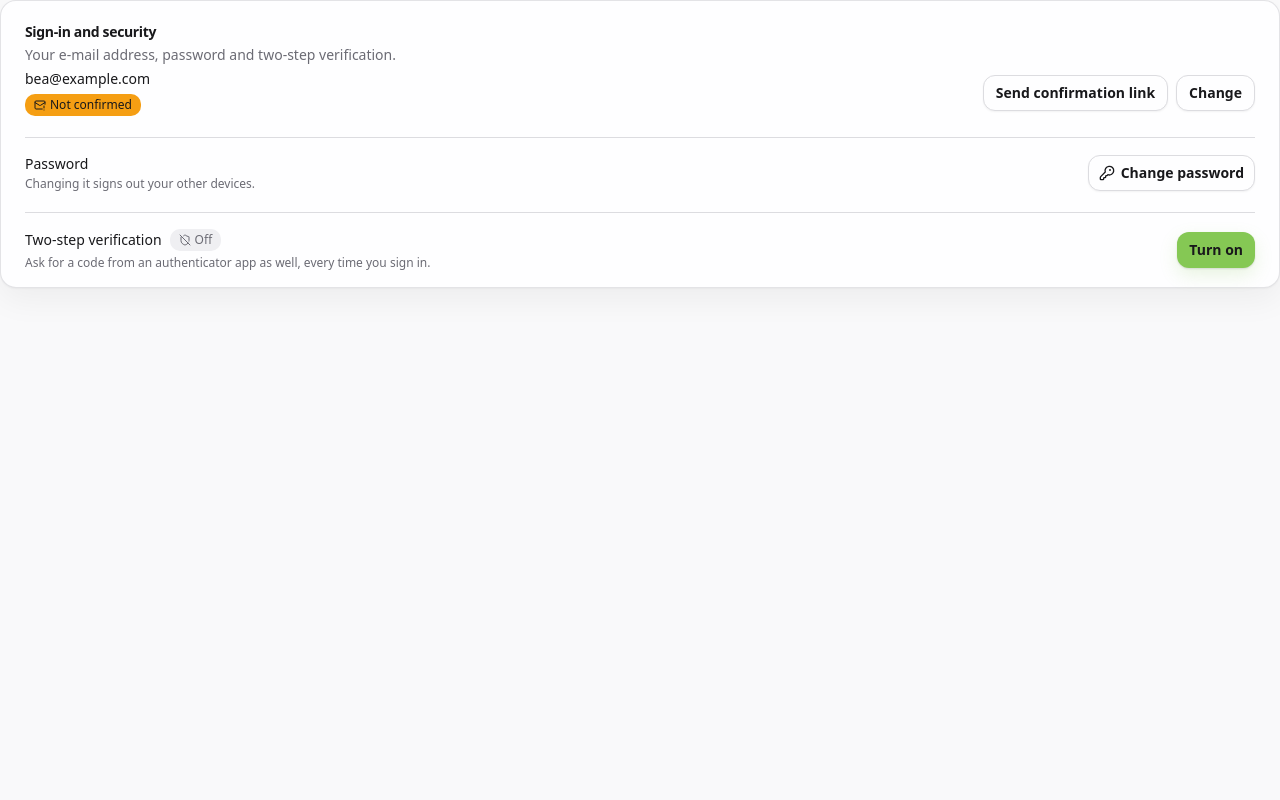
Test: AccountSecurityCard › puts a wrong current password on its own field
Click the button "Change password" at (1171, 173), box [1088,155,1255,191]
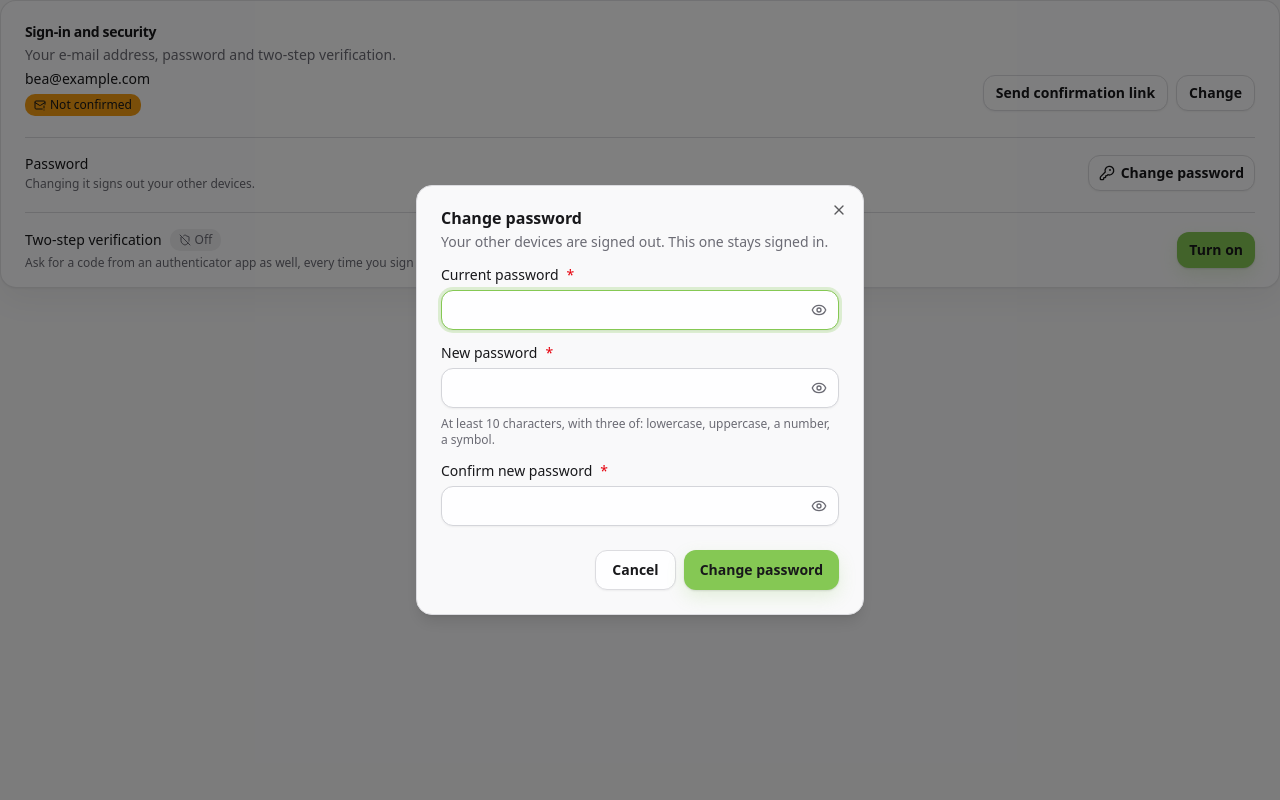
Type "wrong" into the password field labelled "Current password *" at (640, 310), box [441,290,839,330]
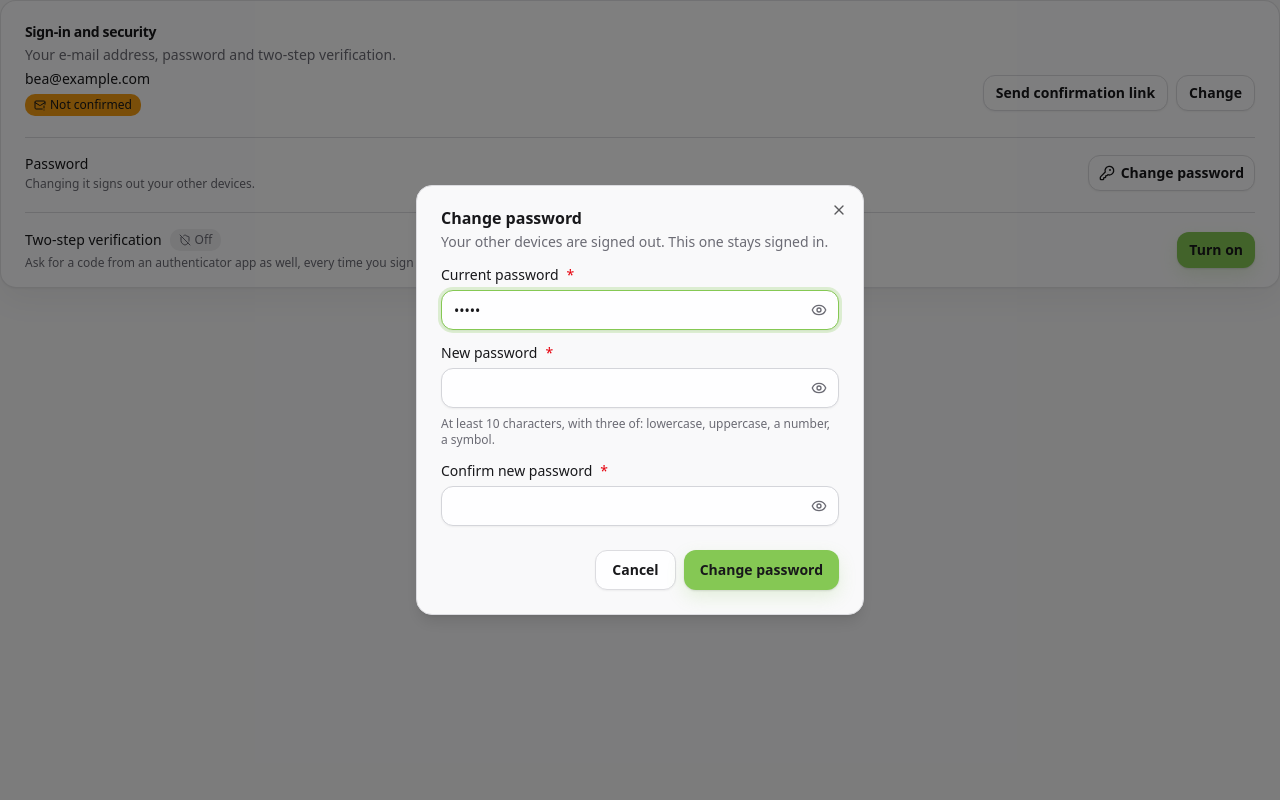
Type "Brand-new-pass-2026" into the password field labelled "New password *" at (640, 388), box [441,368,839,408]
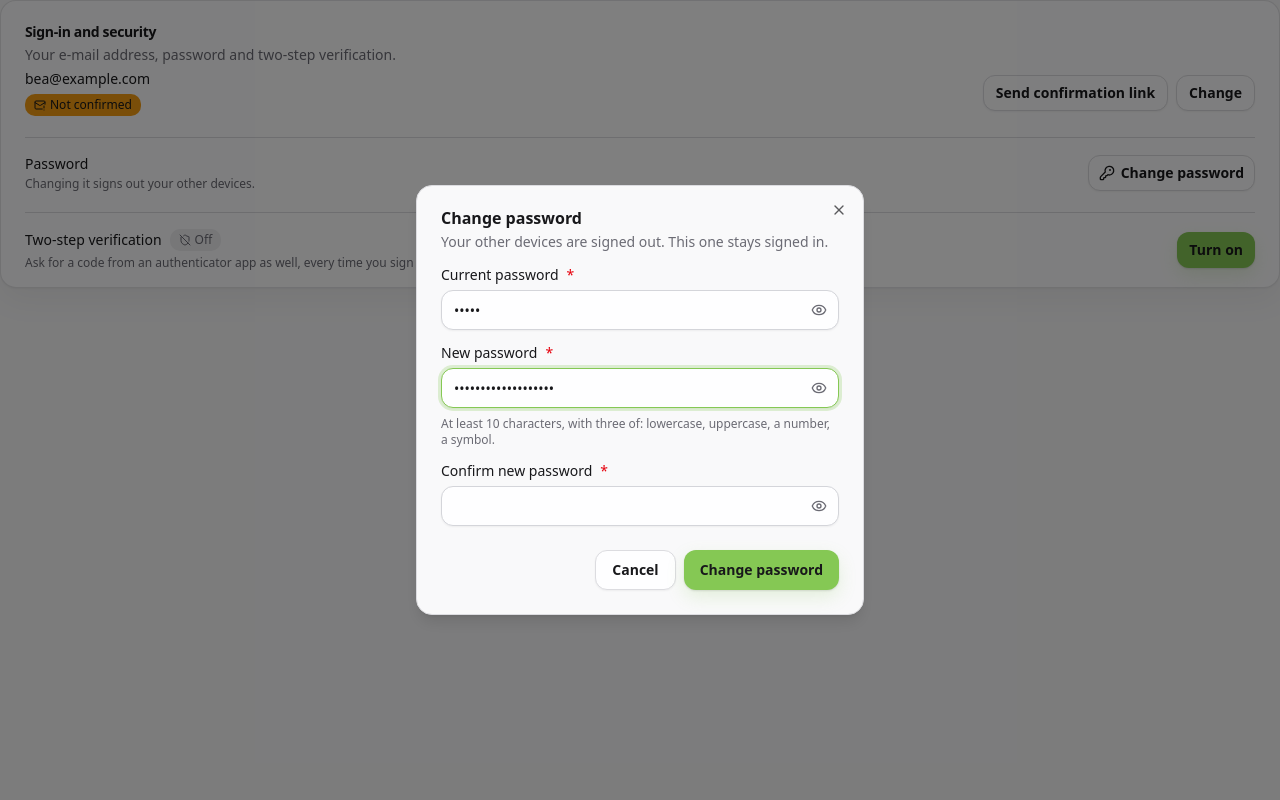
Type "Brand-new-pass-2026" into the password field labelled "Confirm new password *" at (640, 506), box [441,486,839,526]
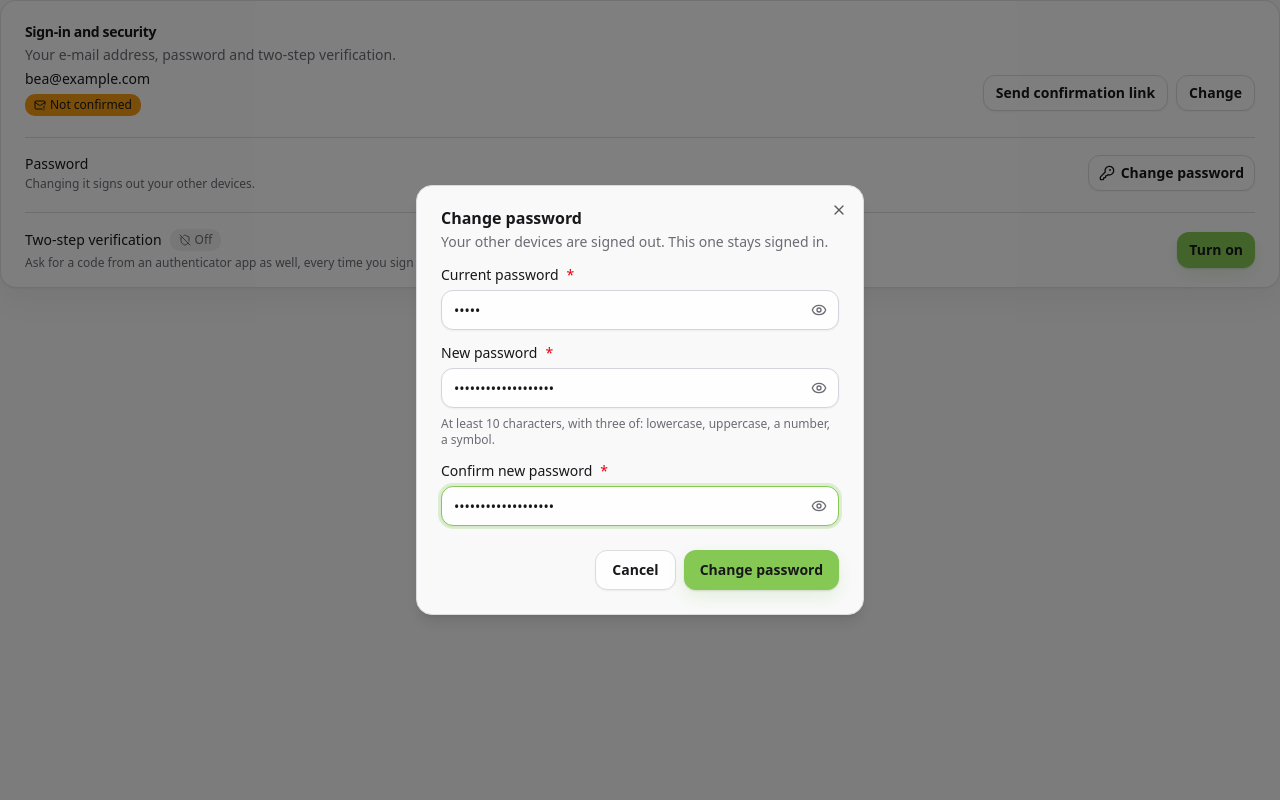
Click the button "Change password" at (761, 570), box [684,550,839,590]
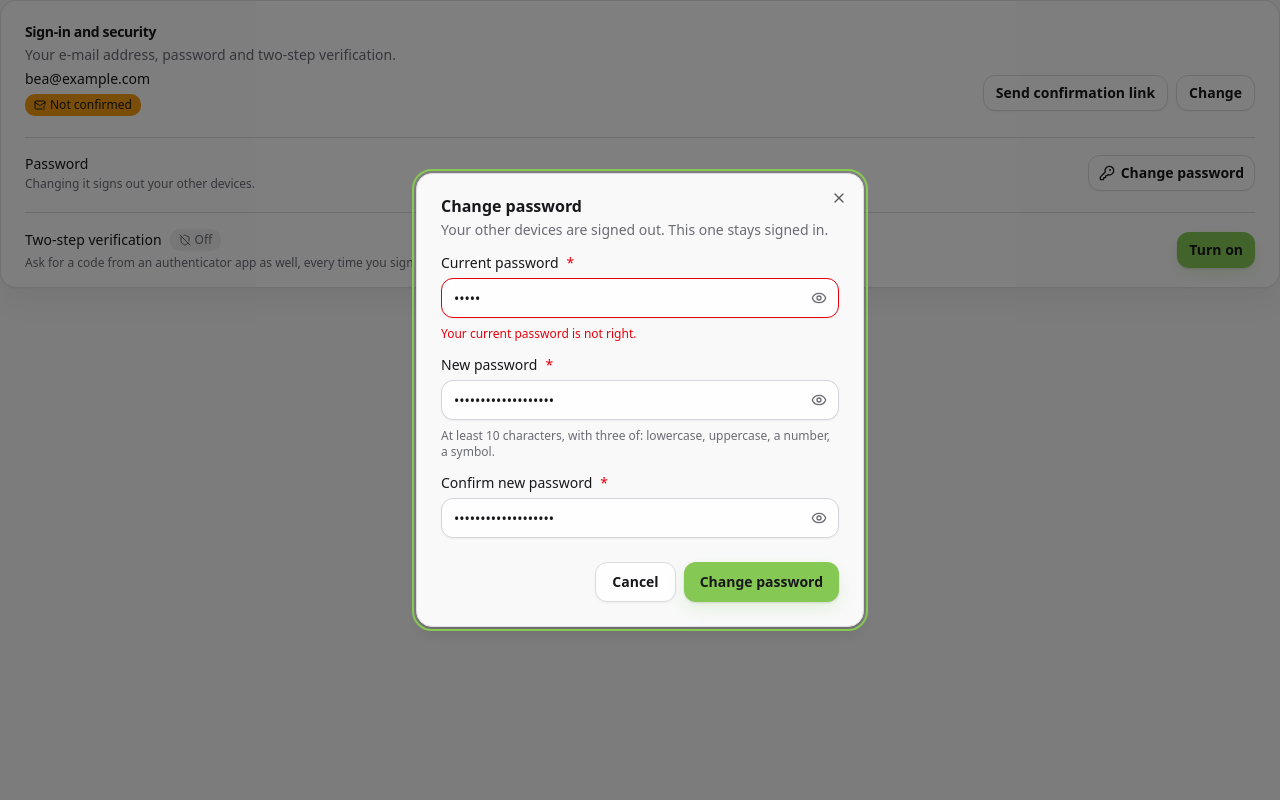
Expected: the dialog is shown, [416,173,864,627]
Expected: the text "Your current password is not right." is shown, [441,325,636,342]
